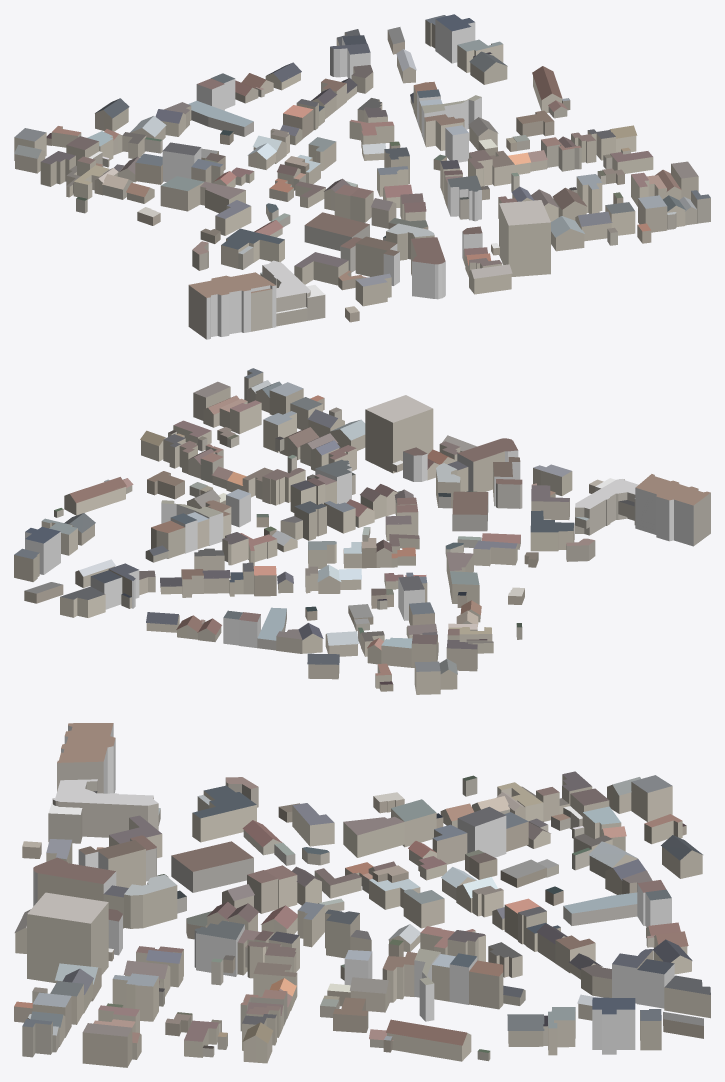
The picture shows the model from 3 angles, top to bottom: view 1: azimuth 30°, elevation 25°; view 2: azimuth 150°, elevation 25°; view 3: azimuth 270°, elevation 25°; orthographic projection. The views are drawn at different scales.
Visible parts, largest first — view 1: tuile; view 2: tuile; view 3: tuile.
Part boxes in pixels (bbox=[...]): tuile: bbox=[14, 14, 710, 339]; tuile: bbox=[14, 368, 710, 694]; tuile: bbox=[14, 723, 710, 1067].
Bounding box in the file's own units: 267 × 26.67 × 255.
